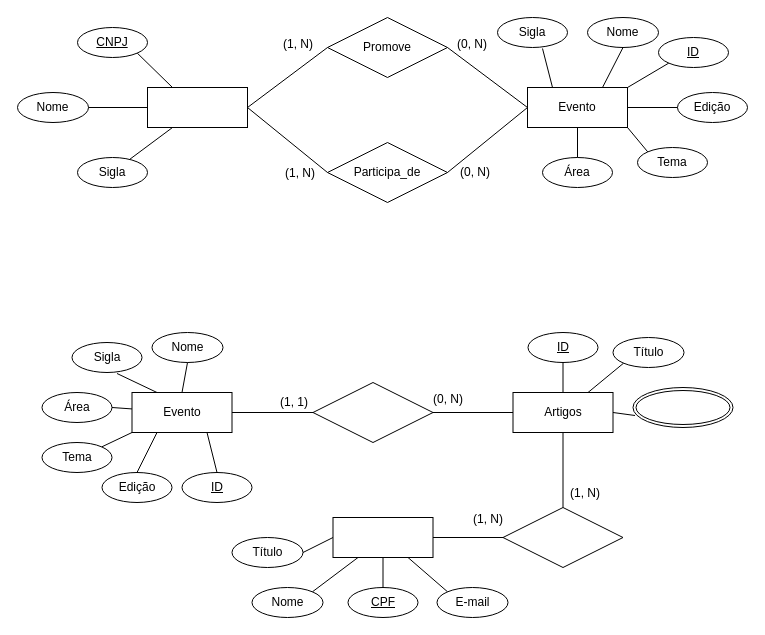
This 765x635 diagram has some shape labels left out. The shapes that lost their labels are listed below. From the top down, each one's box as (x1, y1, x2, y2) in pixels, then its label:
(146, 86, 248, 128): Universidade
(312, 382, 433, 442): Recebe
(632, 386, 733, 428): Palavras-chave
(332, 516, 433, 558): Autor
(502, 506, 623, 568): Escreve
